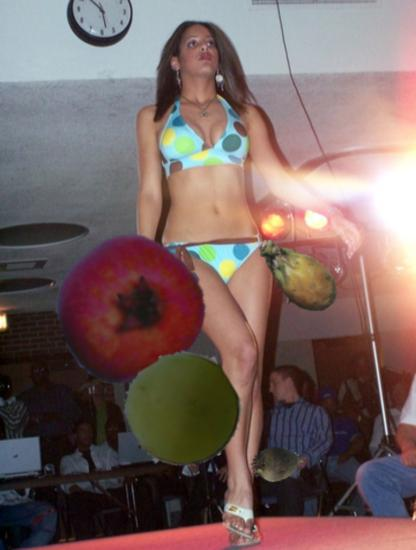Beetroot: (248, 434, 307, 493)
Cactus: (250, 226, 345, 321)
Grape: (125, 352, 241, 468)
Pomegranate: (56, 234, 205, 383)
